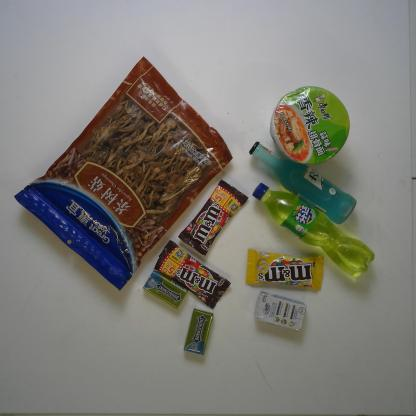Alcohol: (245, 140, 359, 226)
Chocolate: (175, 172, 252, 256), (152, 237, 234, 310), (241, 244, 330, 292)
Dried Food: (10, 54, 233, 292)
Drink: (252, 180, 376, 281)
Gum: (137, 268, 189, 310), (182, 304, 220, 358)
Instant Noodles: (265, 80, 353, 168)
Milk: (250, 290, 311, 334)
